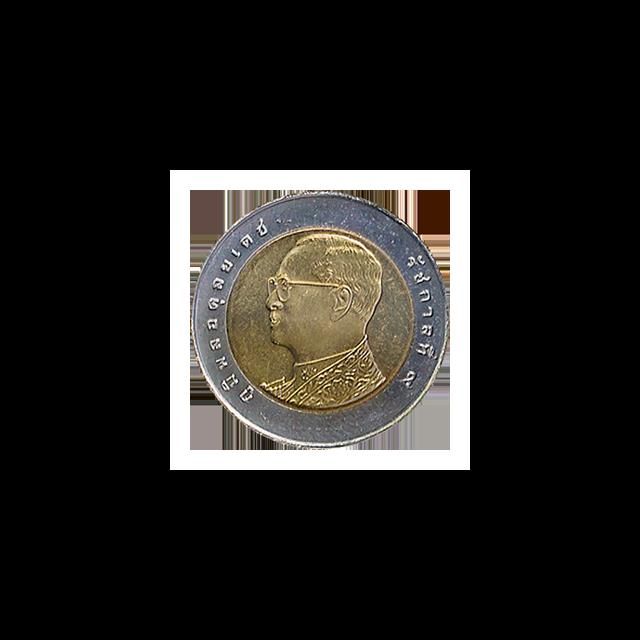10-baht: (176, 182, 466, 459)
